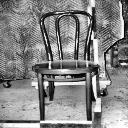chair_success: (23, 3, 105, 126)
